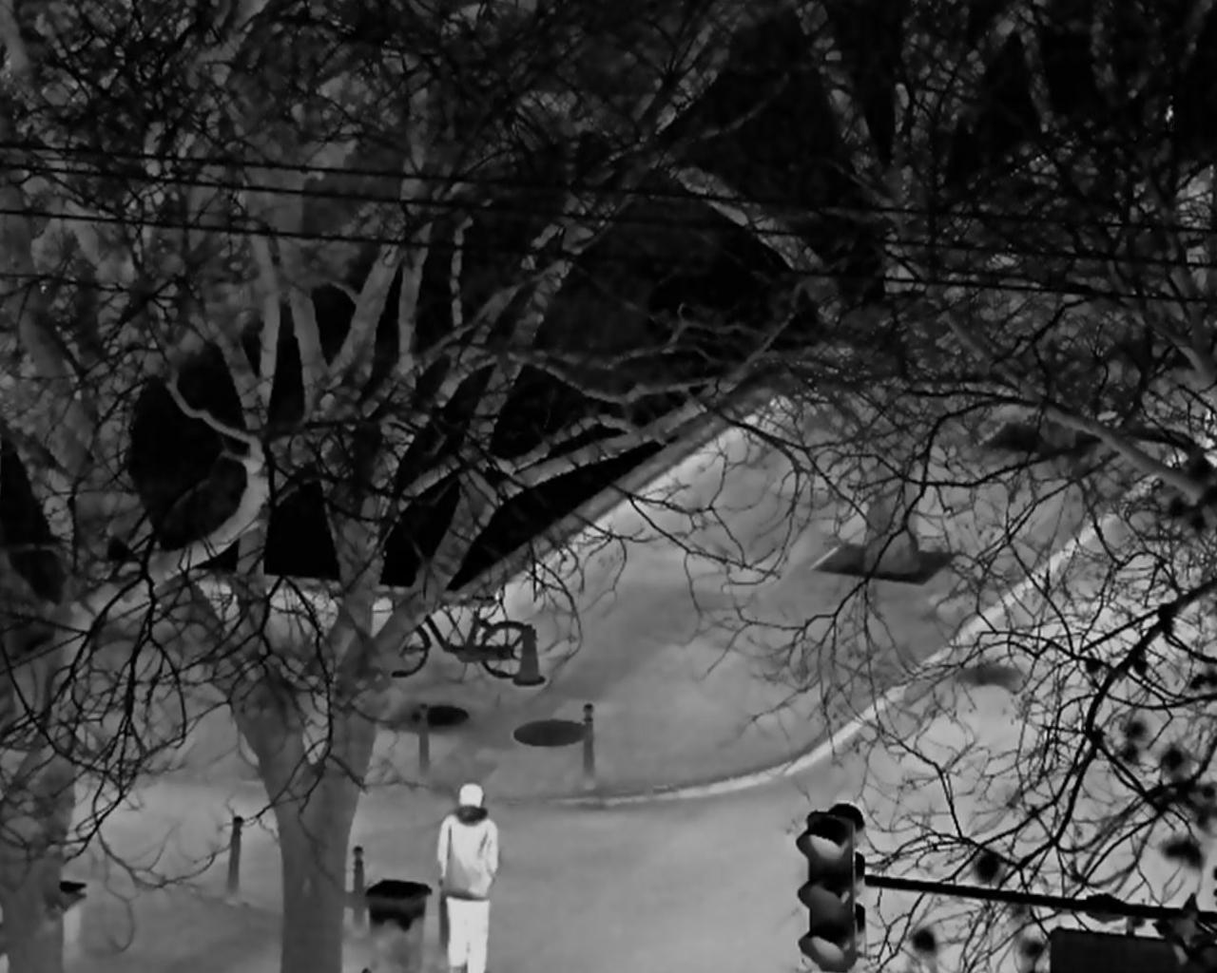person: (435, 782, 499, 973)
